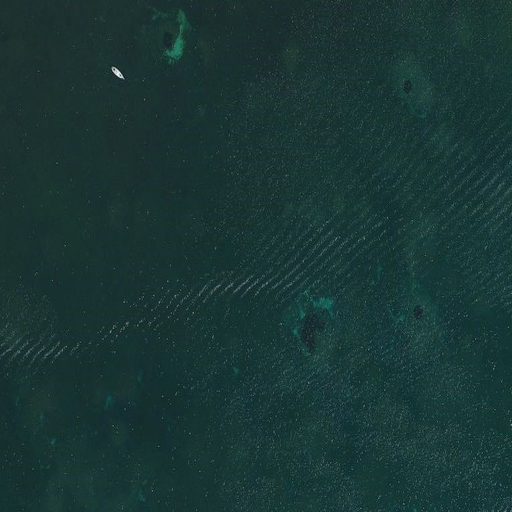ship: (107, 64, 126, 82)
